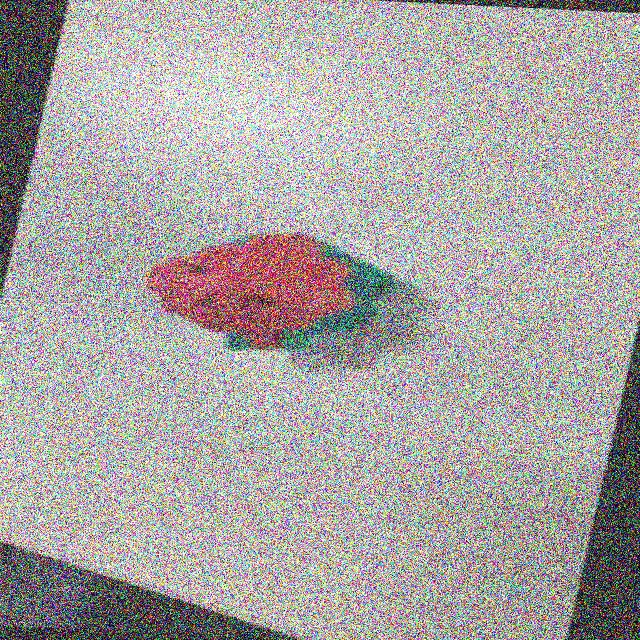House: (128, 225, 425, 360)
